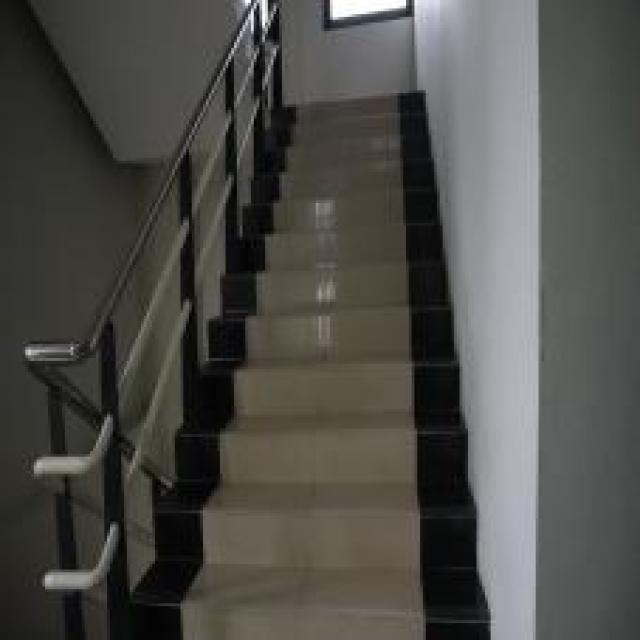upstair: (260, 96, 462, 640)
